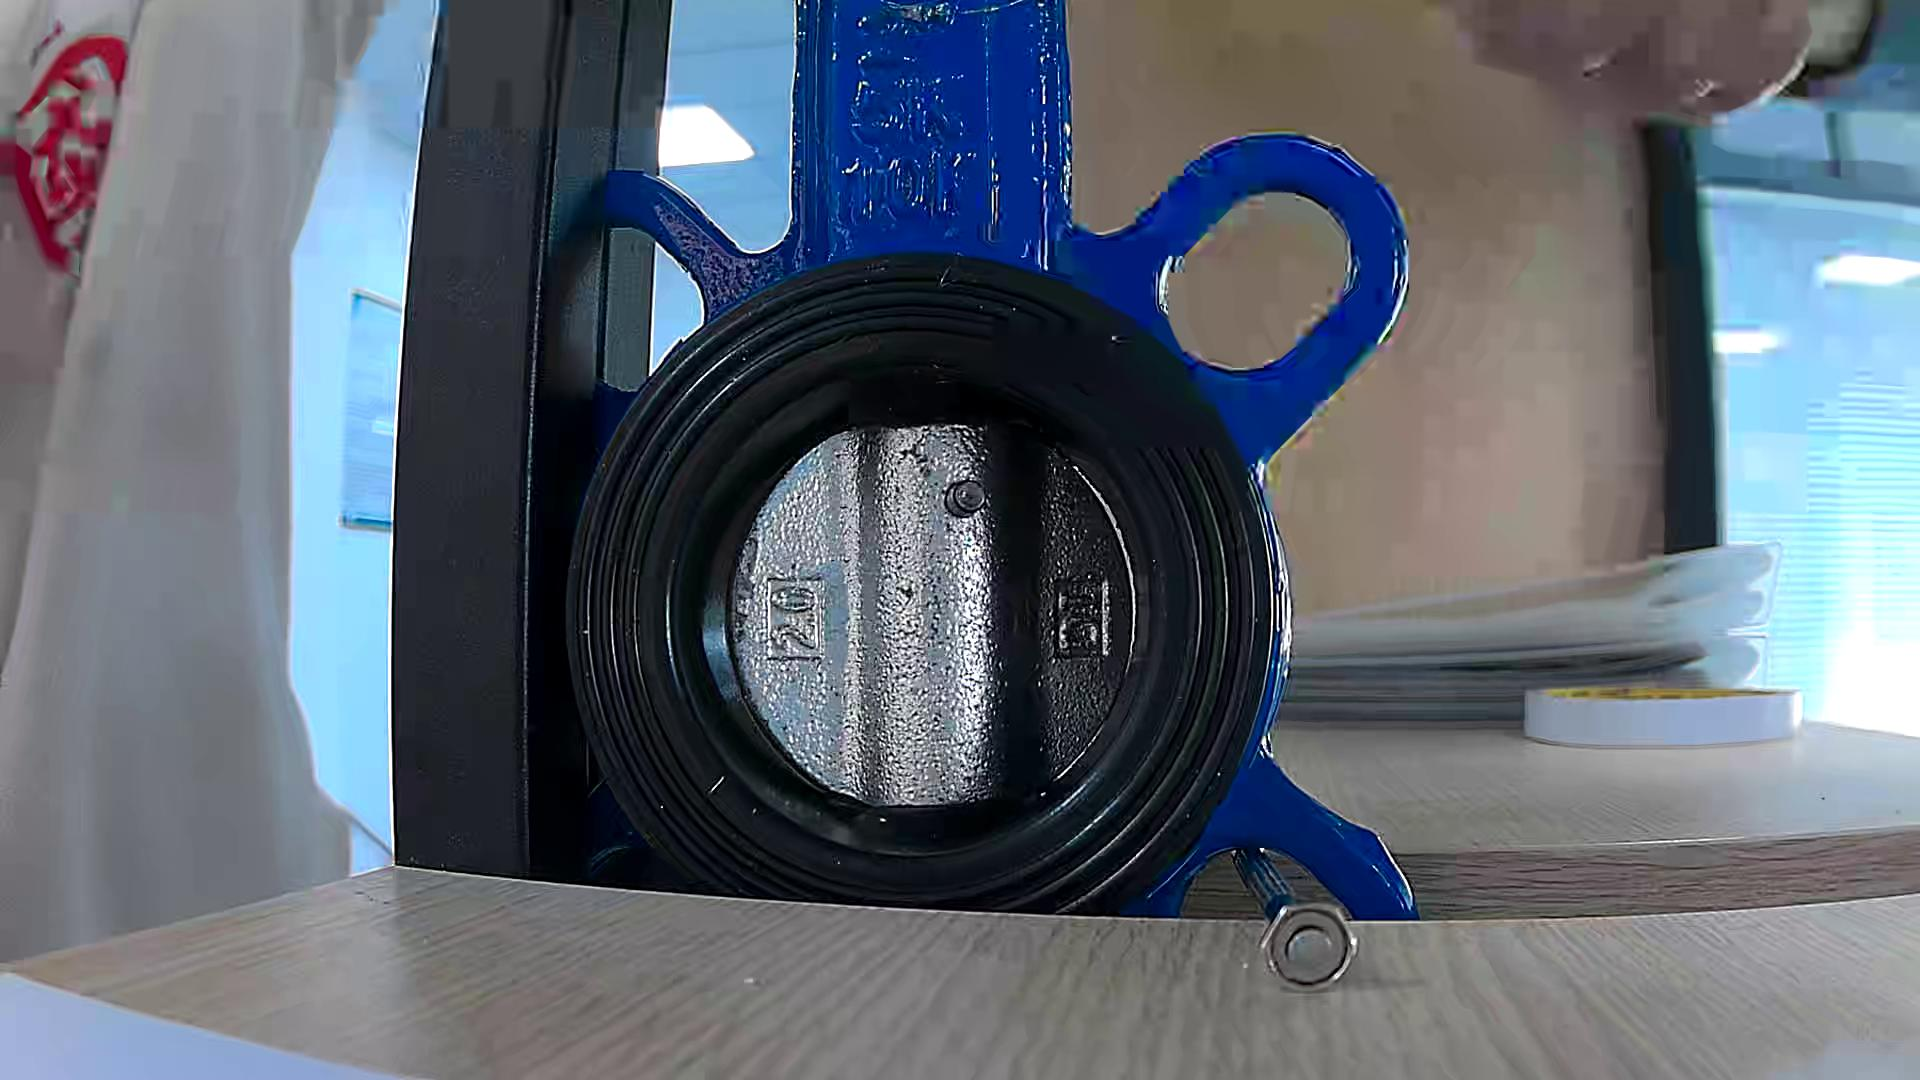valve: (731, 424, 1131, 806)
